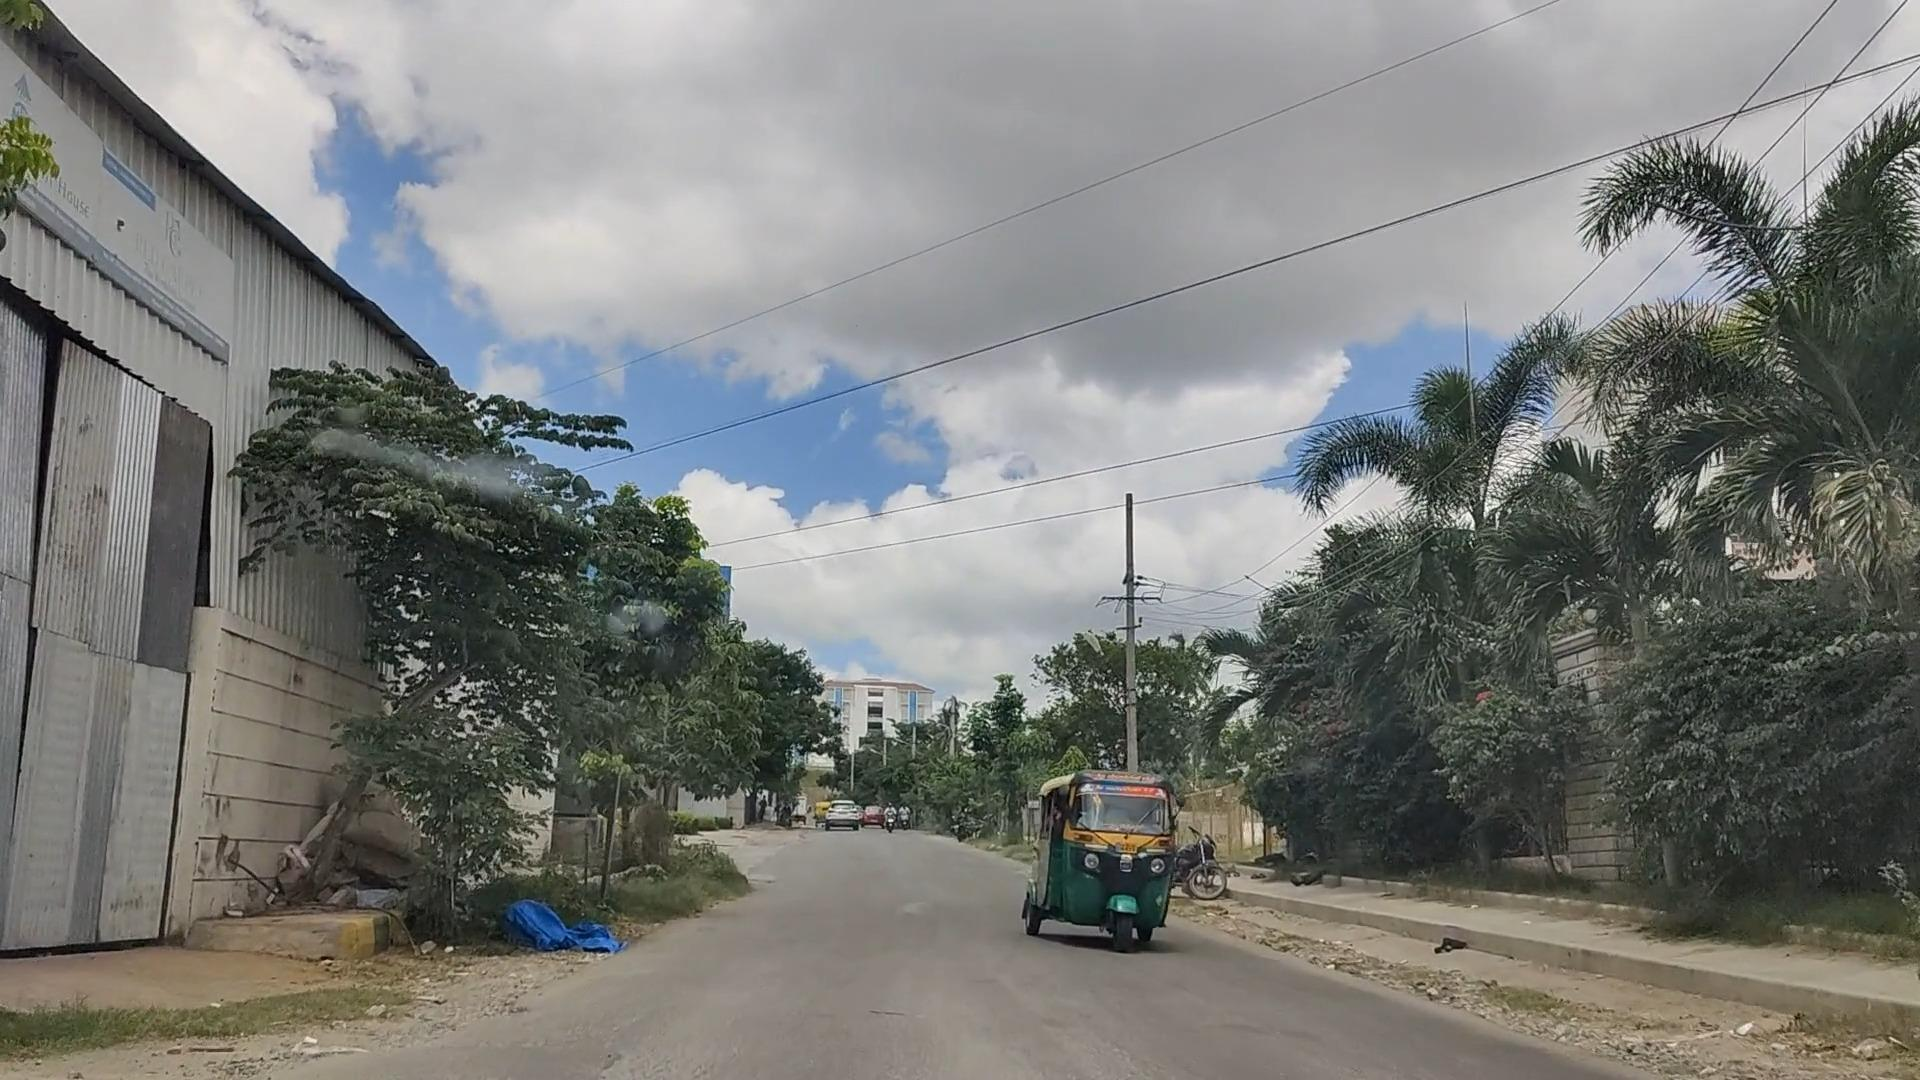LMV: (1009, 750, 1193, 971)
